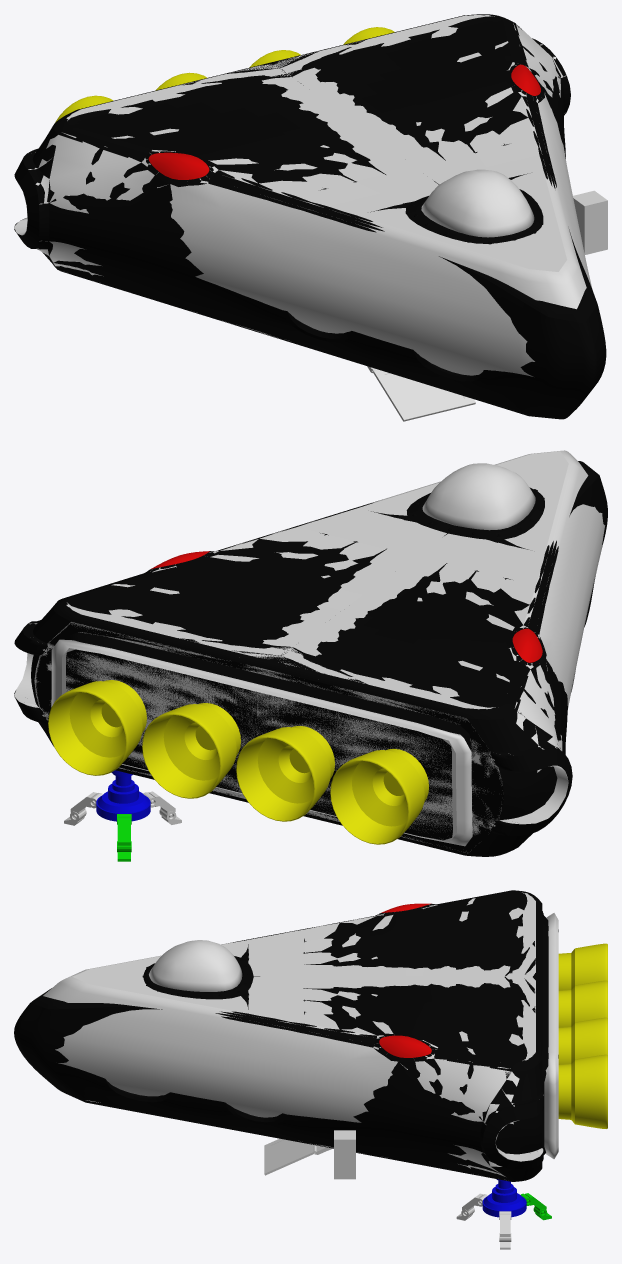
The model's file is Gouda-1.glb.
3 renders of one model, top to bottom at view 1: azimuth 30°, elevation 25°; view 2: azimuth 150°, elevation 25°; view 3: azimuth 270°, elevation 25°, orthographic. The views are drawn at different scales.
Visible parts, largest first — view 1: Exterior, Gouda_1_Exterior.001-noimp, CockpitGlass, BoardingRamp_End, Cube-noimp; view 2: Exterior, Gouda_1_Exterior.001-noimp, CockpitGlass, LandingGear; view 3: Exterior, Gouda_1_Exterior.001-noimp, CockpitGlass, BoardingRamp_End, LandingGear, Cube-noimp.
Part boxes in pixels (x1,y1,x2,y2): Exterior: (14,14,606,419); Gouda_1_Exterior.001-noimp: (14,15,592,376); CockpitGlass: (421,169,534,237); BoardingRamp_End: (371,368,475,421); Cube-noimp: (573,190,607,254); Exterior: (14,461,607,856); Gouda_1_Exterior.001-noimp: (14,450,605,853); CockpitGlass: (422,463,535,530); LandingGear: (96,770,150,821); Exterior: (14,890,607,1181); Gouda_1_Exterior.001-noimp: (43,892,558,1180); CockpitGlass: (149,940,242,991); BoardingRamp_End: (264,1138,316,1175); LandingGear: (482,1179,526,1217); Cube-noimp: (334,1130,355,1179).
Size of what is drawn, in the model's own units: 23.02 by 10.97 by 27.1.
